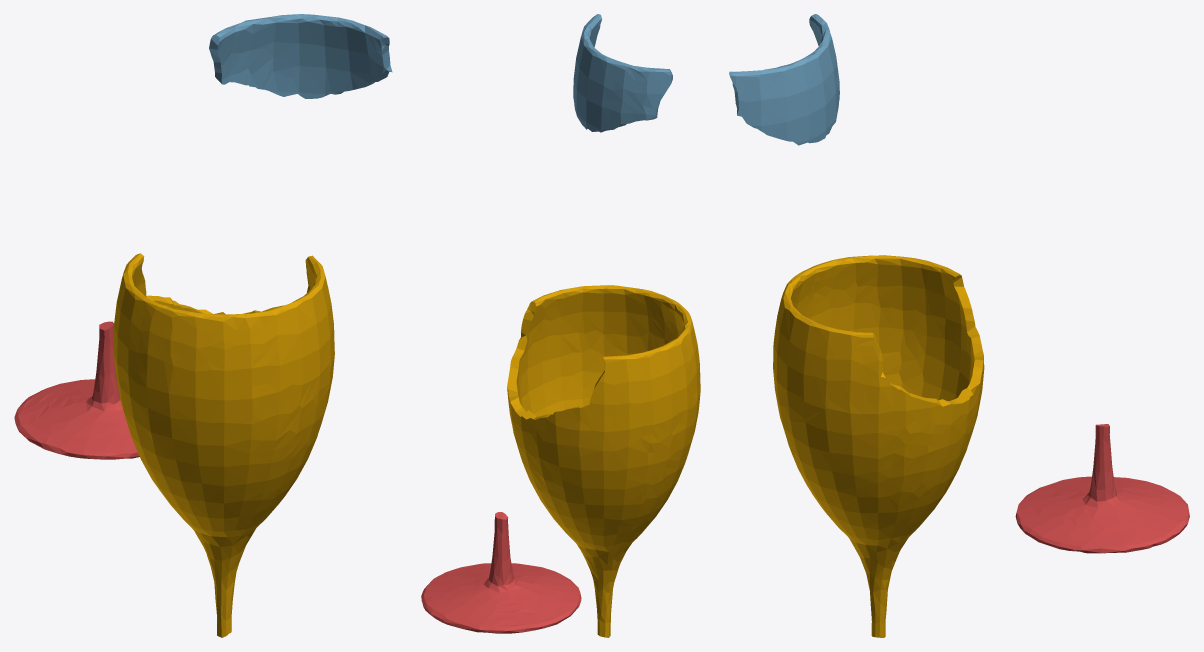
Rendered from fractured_52_3pcs_transformed.glb.
3 views of the same model, side by side, from view 1: azimuth 30°, elevation 25°; view 2: azimuth 150°, elevation 25°; view 3: azimuth 270°, elevation 25° (orthographic). The views are drawn at different scales.
Visible parts, largest first — view 1: piece_0.obj, piece_2.obj, piece_1.obj; view 2: piece_0.obj, piece_1.obj, piece_2.obj; view 3: piece_0.obj, piece_1.obj, piece_2.obj.
Boxes of the visible parts, x1,y1,x2,y2 form: piece_0.obj: (113,253,334,637); piece_2.obj: (209,14,392,98); piece_1.obj: (14,321,139,459); piece_0.obj: (507,285,700,637); piece_1.obj: (421,512,581,633); piece_2.obj: (573,14,672,132); piece_0.obj: (773,255,984,637); piece_1.obj: (1015,424,1189,553); piece_2.obj: (729,14,839,145).
Size of the model in its own units: 0.4397 by 1.39 by 0.9593.
